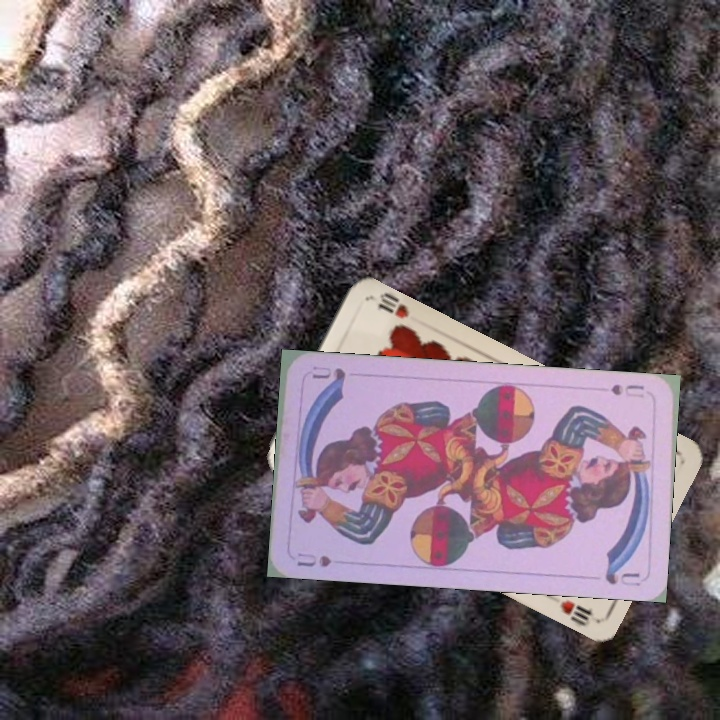SU: (292, 548, 334, 569), (607, 380, 647, 400)
